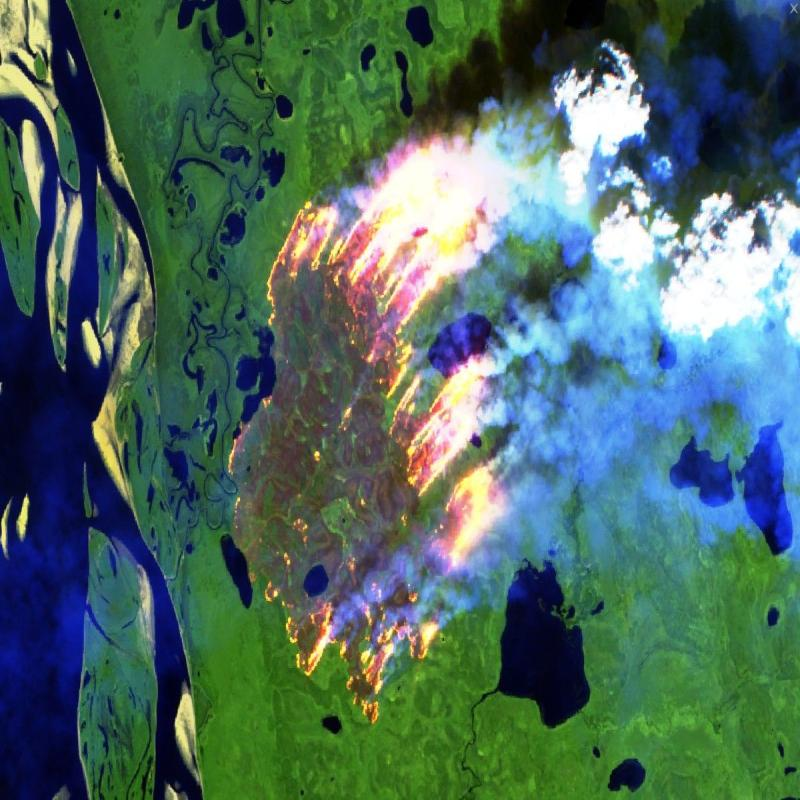fire: (213, 192, 511, 738)
